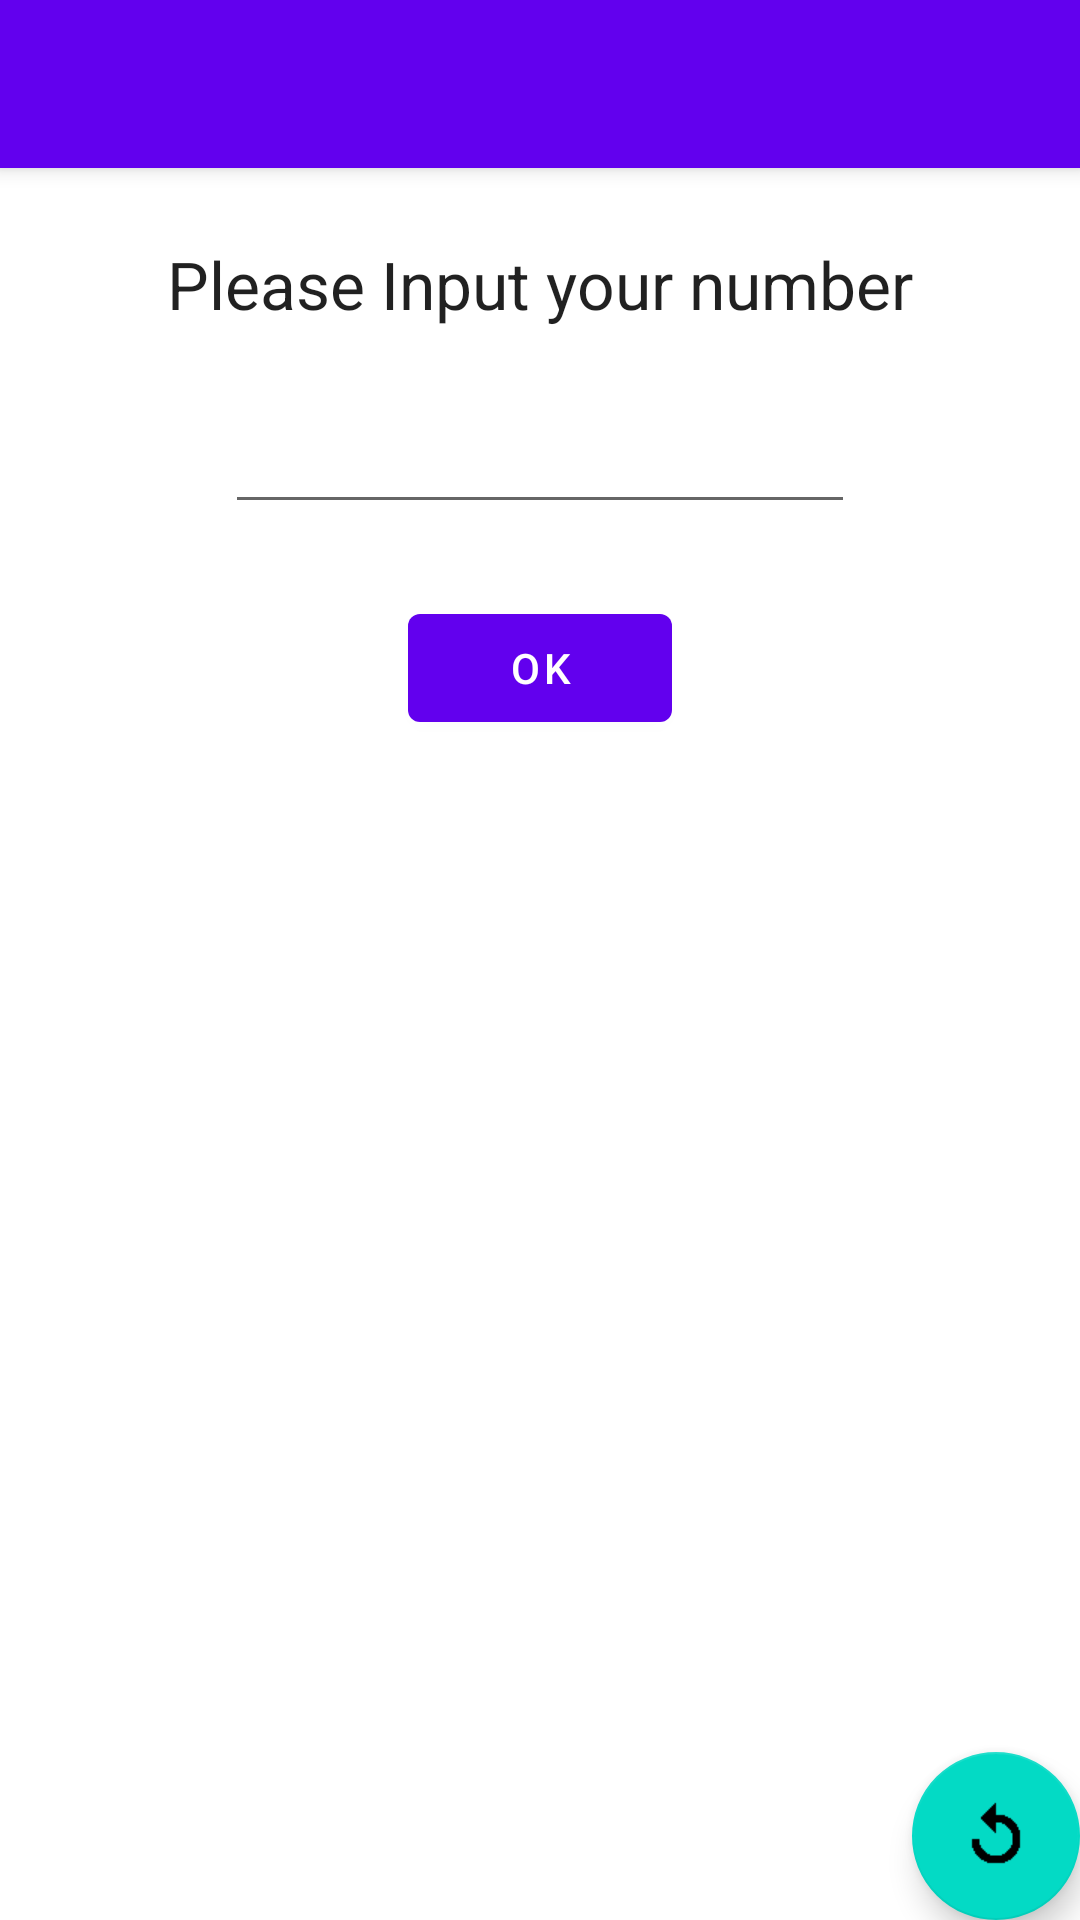

Icon bounding boxes for this 1080px×1920px phone screenshot, format (x1, y1, x2, y2):
Replay: (912, 1752, 1080, 1920)
